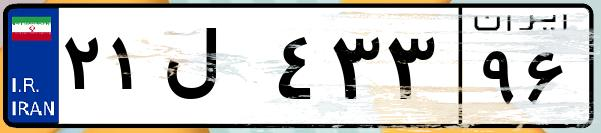1: (110, 28, 158, 98)
2: (57, 26, 110, 100)
3: (385, 28, 445, 110), (330, 28, 385, 110)
4: (270, 28, 330, 110)
6: (525, 38, 570, 115)
9: (475, 38, 525, 113)
ل: (158, 20, 270, 120)
